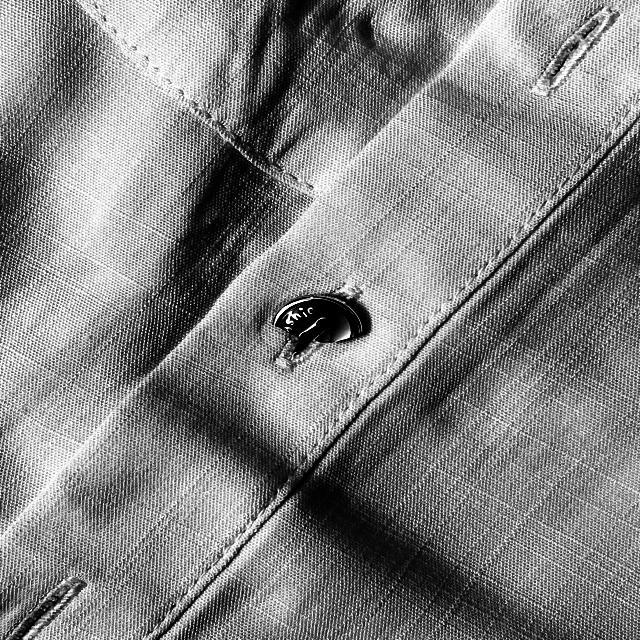Broken_button: (265, 286, 371, 365)
